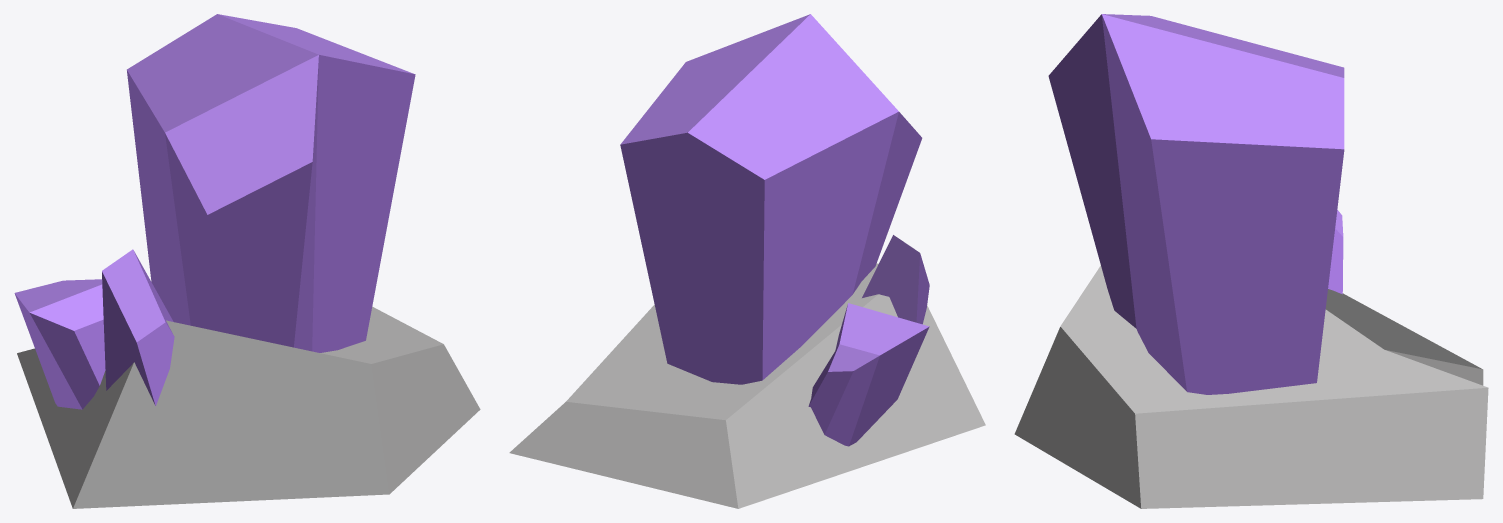
The model's file is Crystal_Alt1.fbx.
3 renders of one model, left to right at view 1: azimuth 30°, elevation 25°; view 2: azimuth 150°, elevation 25°; view 3: azimuth 270°, elevation 25°, orthographic. The views are drawn at different scales.
Parts seen in each view (by area): view 1: Crystal1_Alt1; view 2: Crystal1_Alt1; view 3: Crystal1_Alt1.
Boxes of the visible parts, x1,y1,x2,y2 form: Crystal1_Alt1: (14, 14, 480, 508); Crystal1_Alt1: (509, 14, 985, 508); Crystal1_Alt1: (1014, 14, 1488, 508).
Size of the model in its own units: 1.05 by 1.02 by 1.07.
